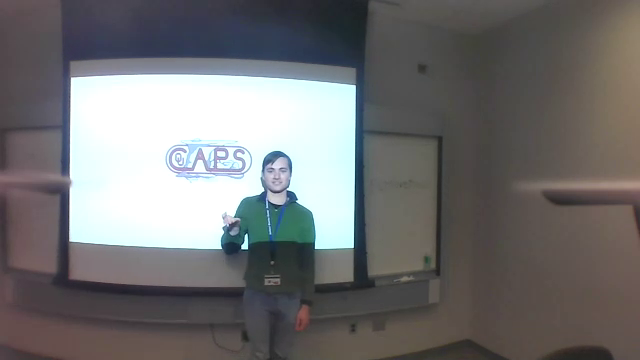land: (216, 211, 242, 230)
